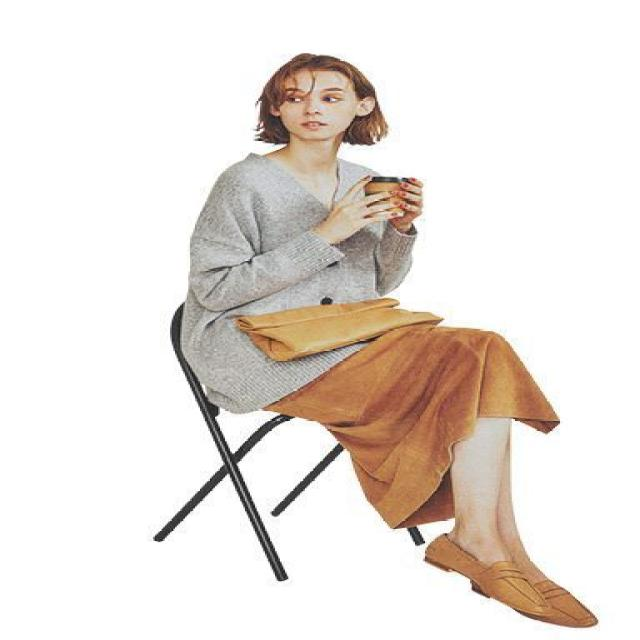obstacle: (152, 300, 438, 581)
person: (178, 52, 598, 628)
